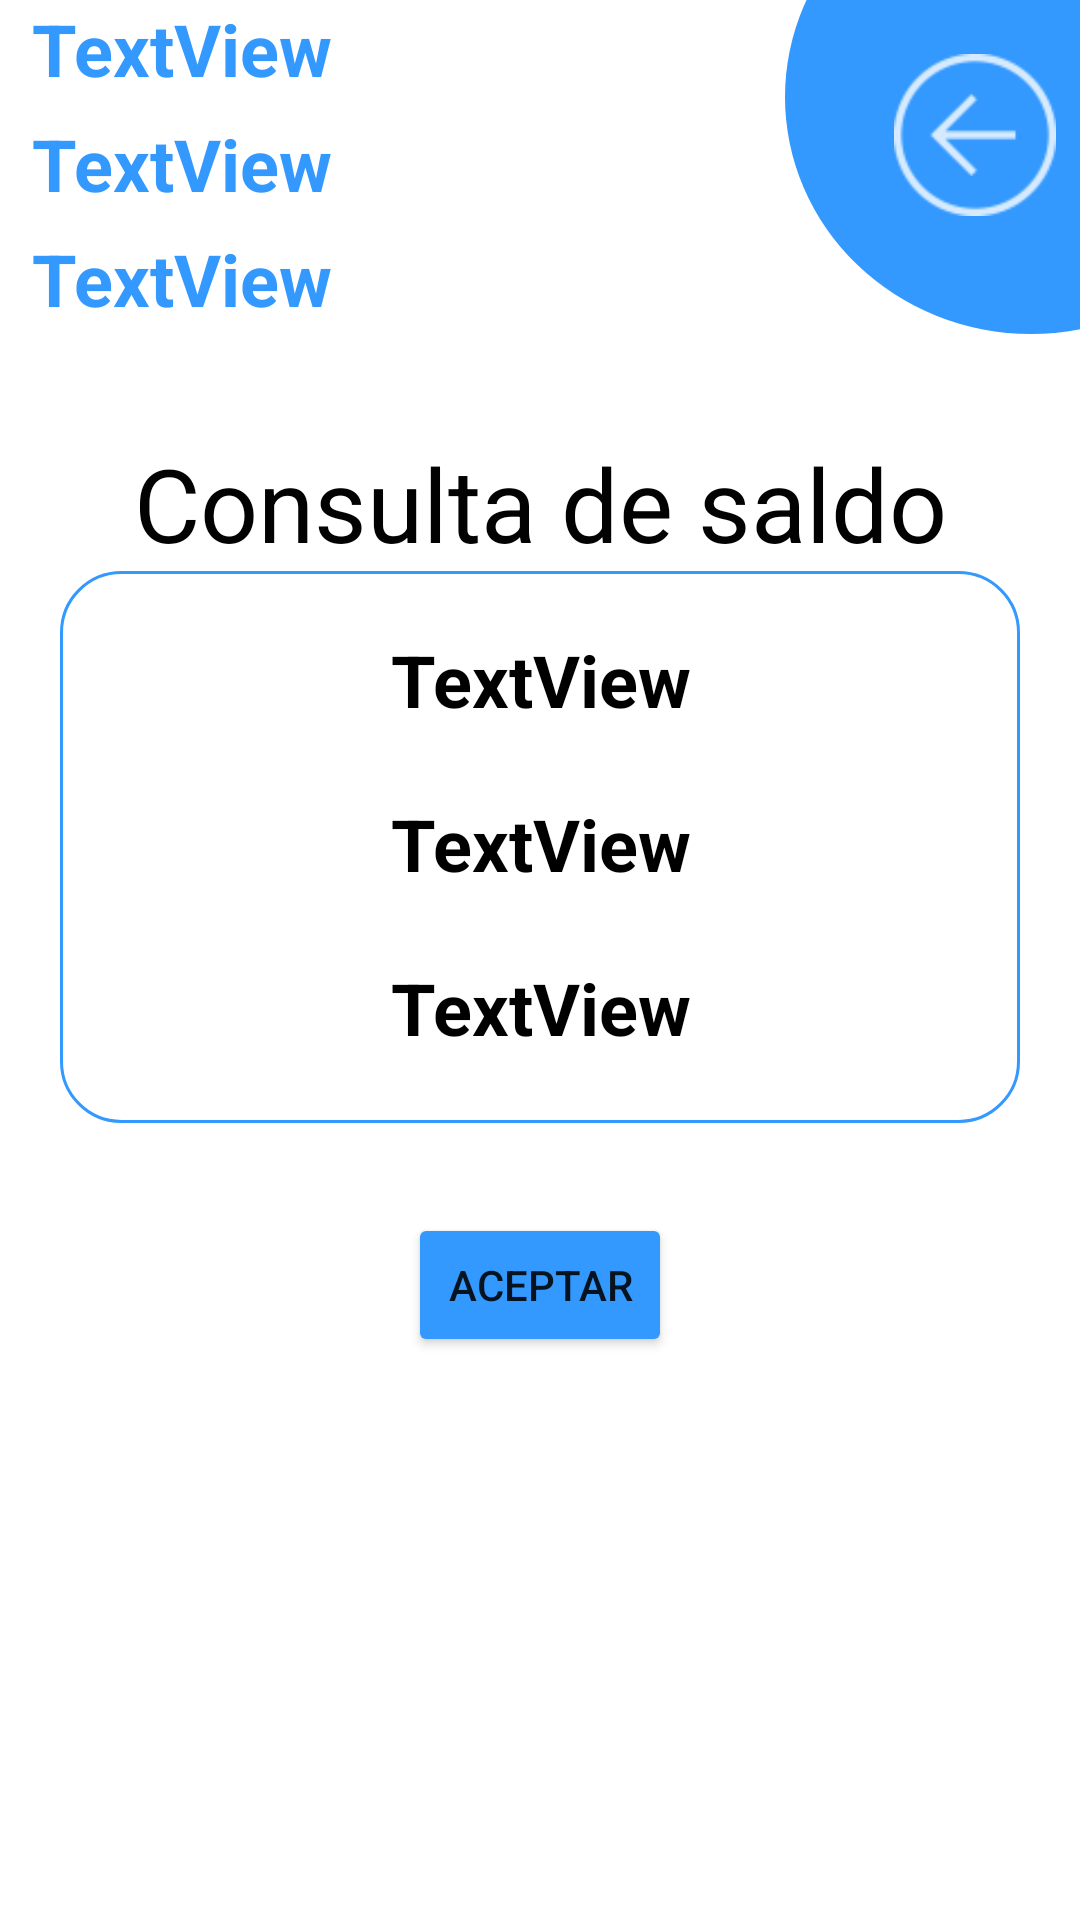

Icons on this 1080x1920 Android screen, each with the point to tap as (x=x, y=y):
arrowback: (x=975, y=135)
